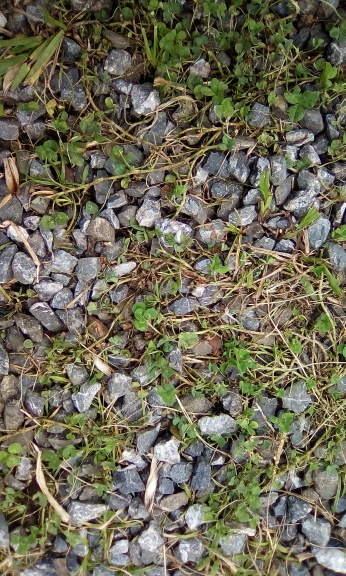4leaf: (131, 302, 159, 332)
